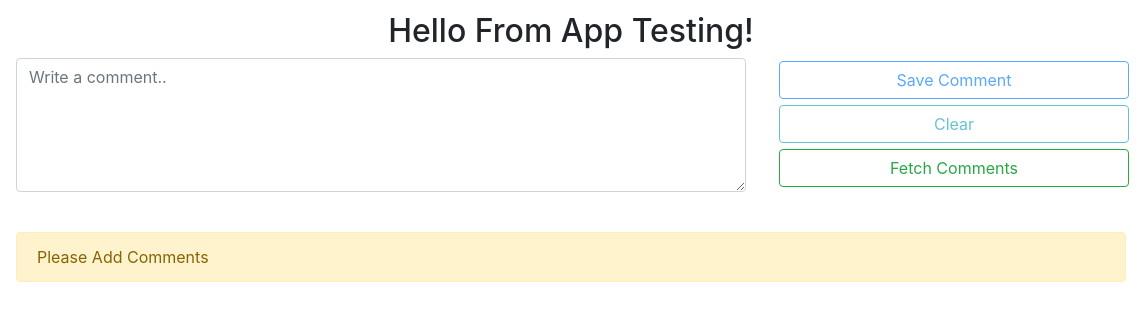
it: can fetch a list of comments and display them
Click the button "Fetch Comments": (954, 168) [779,149,1129,187]
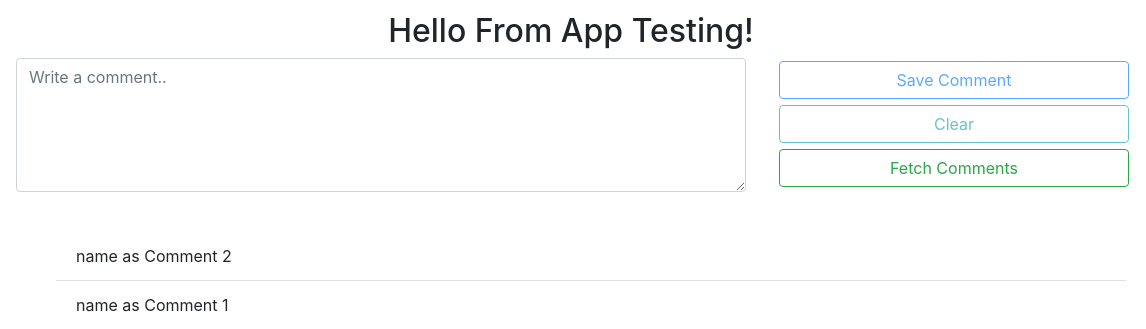
Expected: the number of list items is 2, [56,232,1126,281]
